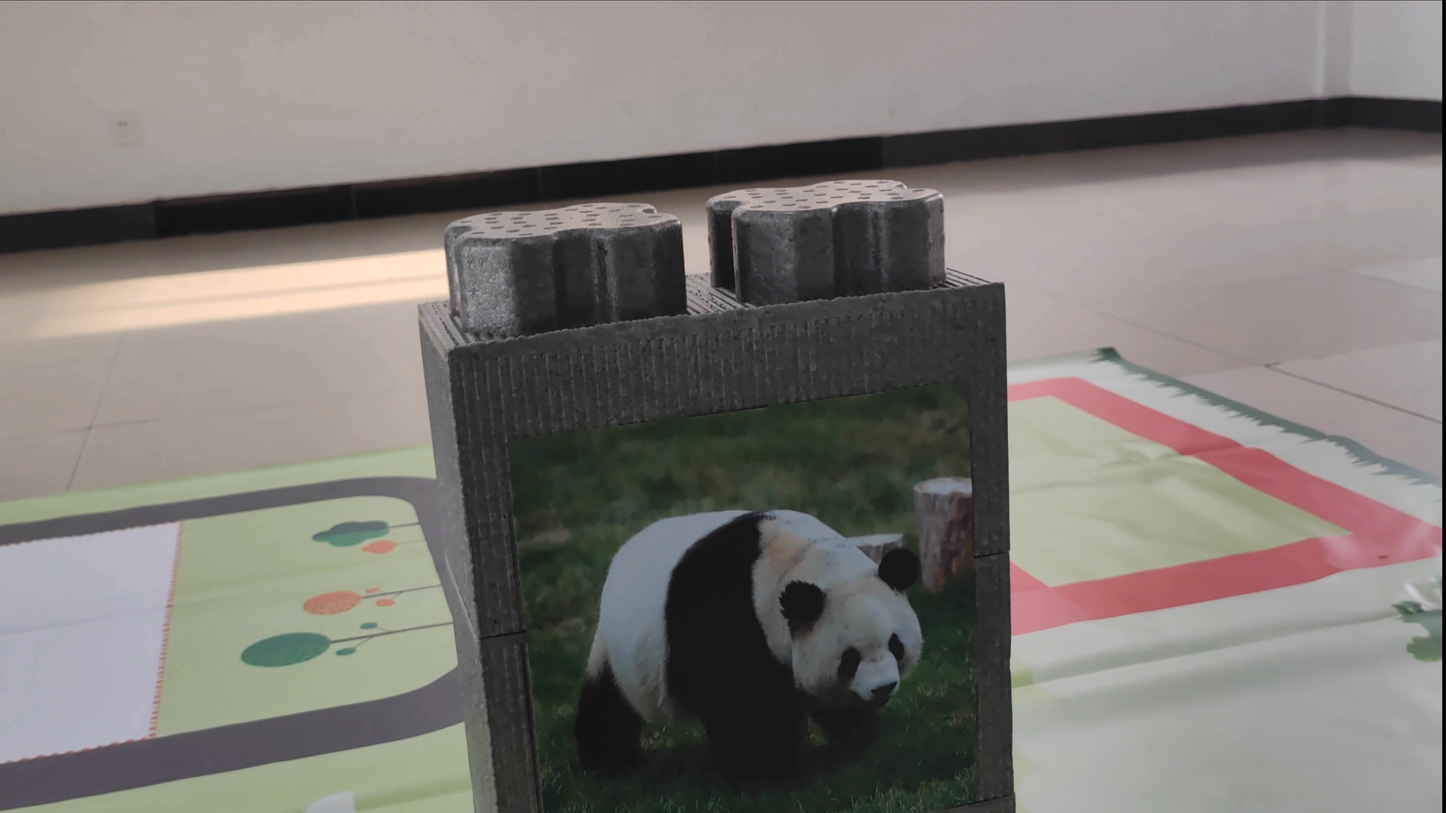panda: (520, 496, 981, 779)
